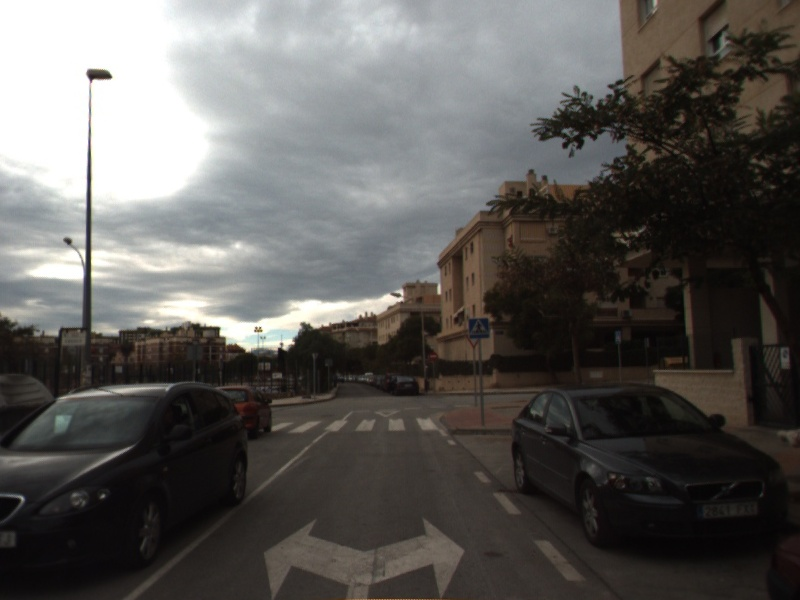LEFT_RIGHT: (261, 512, 468, 600)
